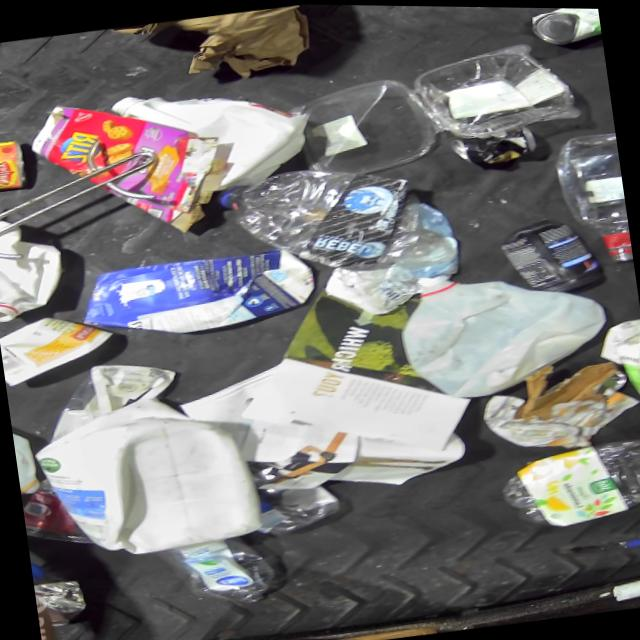can: (19, 473, 96, 552), (448, 122, 538, 167), (527, 6, 602, 47), (34, 575, 90, 628), (0, 138, 29, 192)
milk_jug: (28, 381, 265, 567), (394, 257, 614, 405), (110, 69, 320, 202), (0, 199, 70, 323)
non_white_jug: (77, 239, 320, 347), (596, 315, 640, 418)
plastic_bottle: (212, 152, 421, 285), (497, 431, 640, 533), (551, 128, 633, 267), (153, 531, 280, 615), (254, 475, 344, 537)
